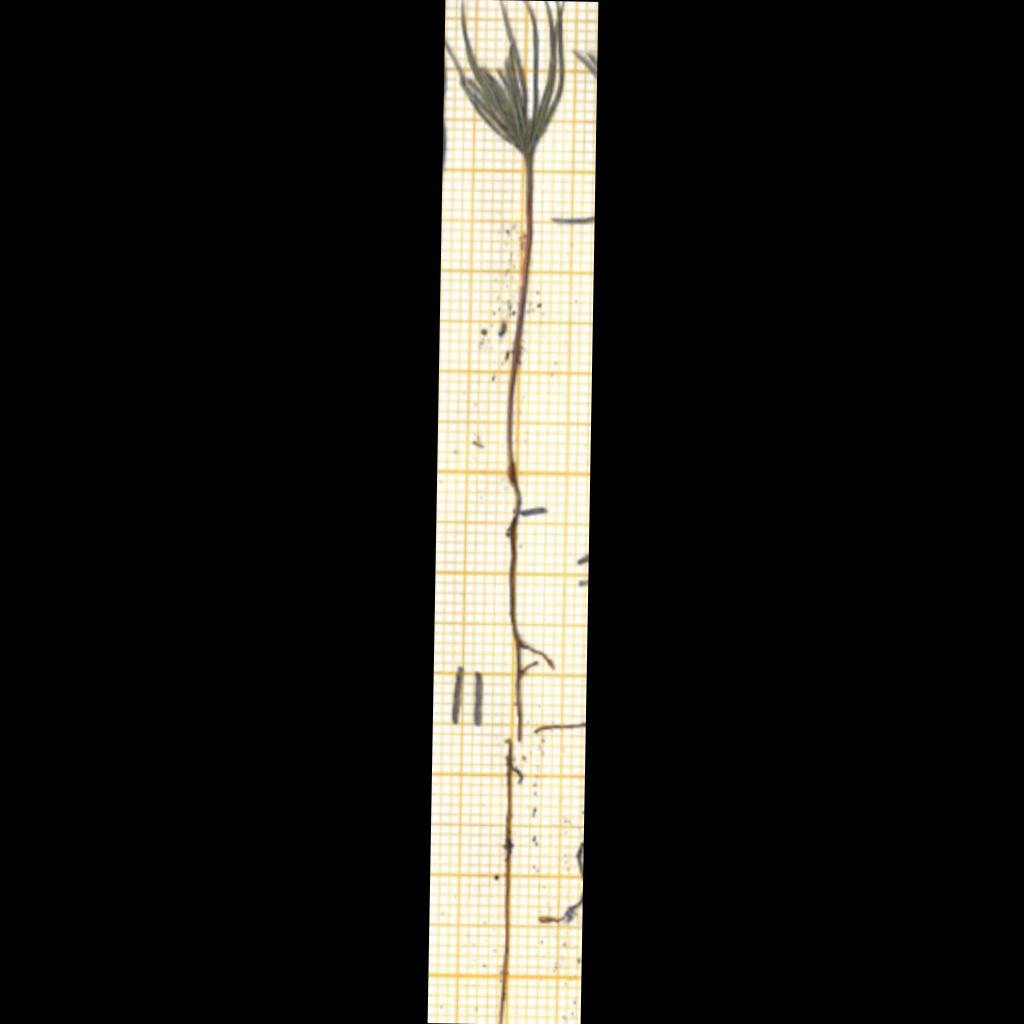flowerPinus: (445, 0, 564, 157)
rootPinus: (500, 738, 522, 1023)
stemPinus: (507, 149, 533, 515)
